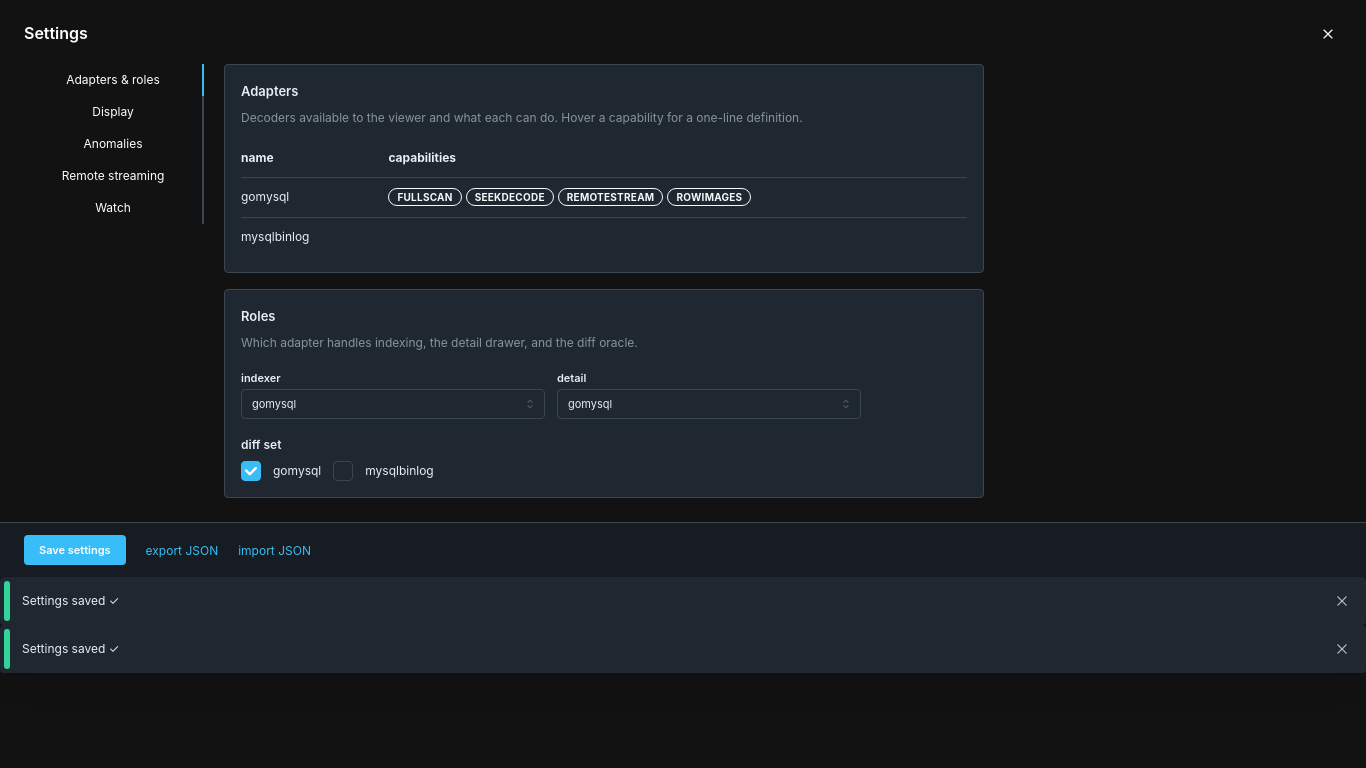
SettingsView › switches to Watch tab and shows watch_dir
The image size is (1366, 768).
Click the tab "Watch" at (114, 208), box [24,192,204,224]
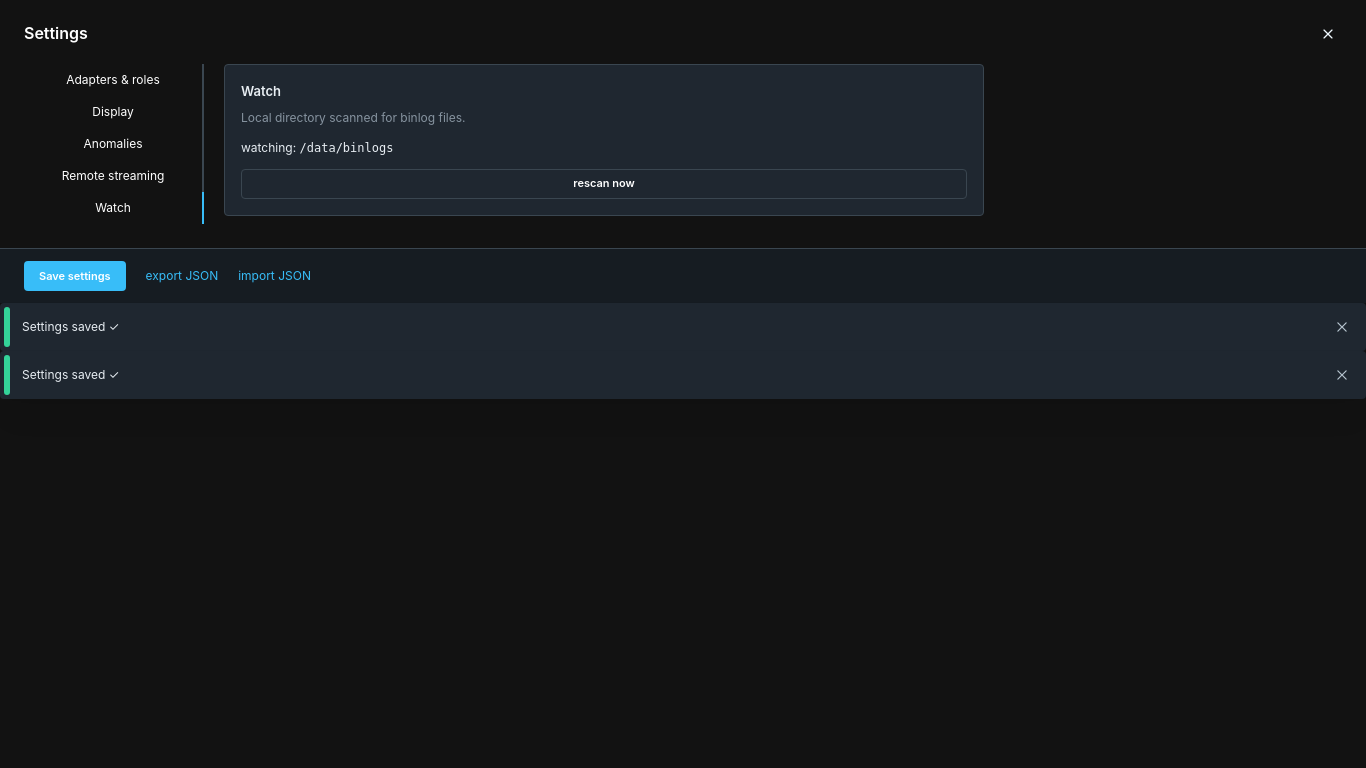
Check: the text "/data/binlogs" is shown, box [300,140,393,154]
